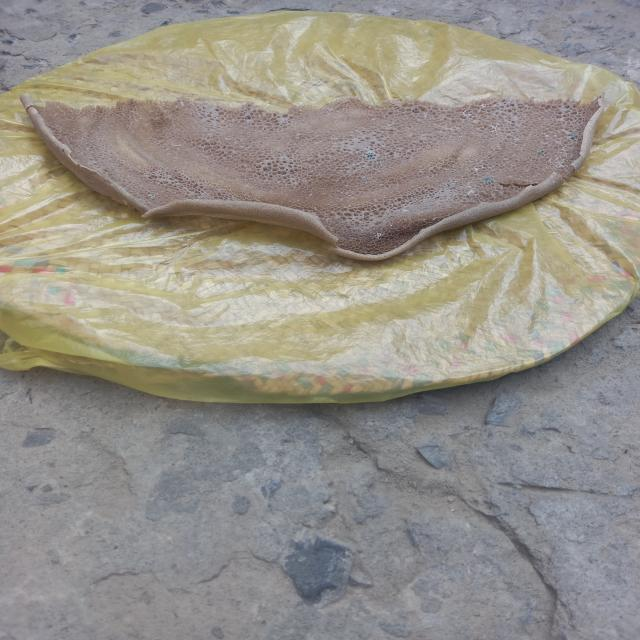injera_mold: (549, 154, 570, 170), (462, 107, 479, 117), (460, 185, 475, 196), (487, 122, 501, 133), (371, 232, 385, 242), (567, 130, 579, 140), (482, 176, 494, 184), (540, 142, 552, 148), (365, 152, 375, 158), (537, 149, 547, 155), (147, 194, 156, 198), (376, 161, 383, 166), (362, 176, 369, 181), (480, 103, 487, 108), (402, 208, 408, 212), (445, 183, 451, 187), (453, 169, 456, 171)
